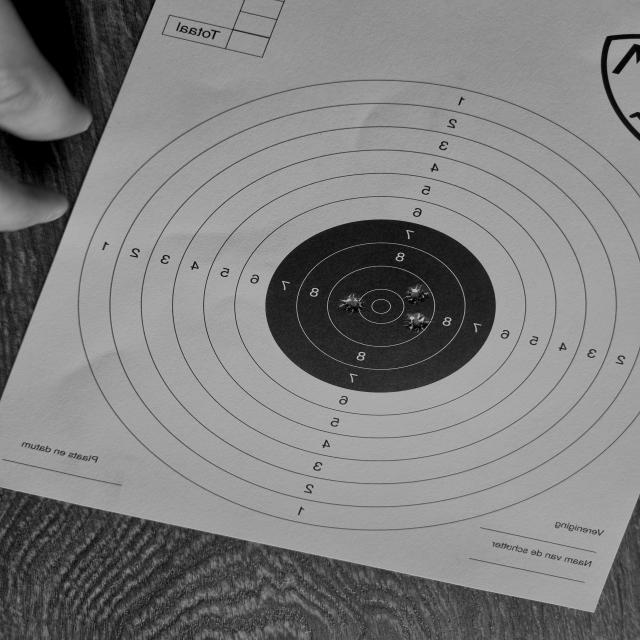10: (338, 294, 365, 312)
9: (402, 312, 434, 333), (404, 283, 430, 304)
Target: (73, 79, 640, 534)
black_contour: (264, 219, 496, 394)
